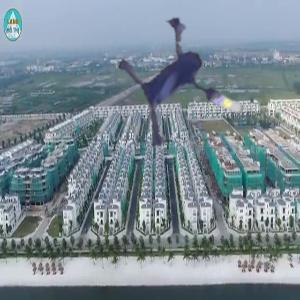drone: (94, 1, 277, 184)
